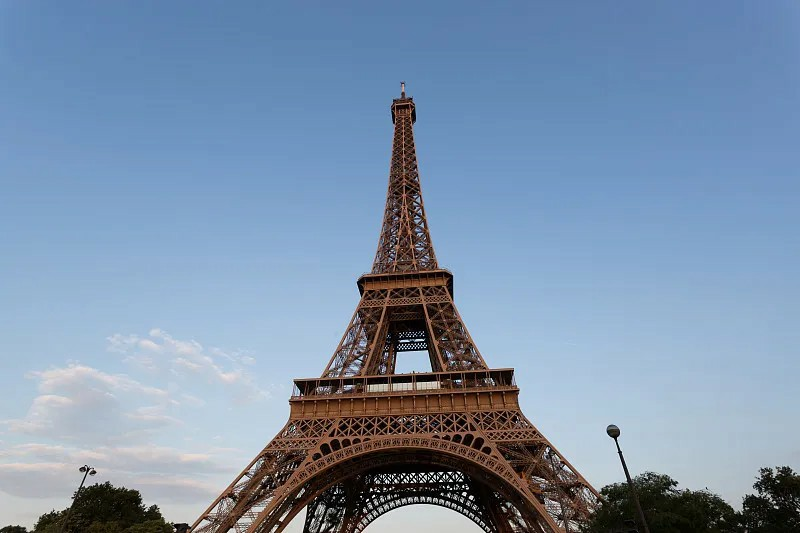Eiffel: (183, 81, 610, 533)
